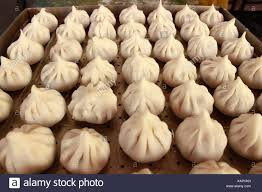modak: (178, 114, 235, 167), (2, 127, 65, 170), (62, 128, 117, 173), (118, 115, 175, 156), (70, 83, 123, 123), (115, 77, 174, 112), (212, 75, 259, 113), (170, 81, 216, 118), (23, 85, 63, 123), (226, 112, 262, 151), (40, 56, 85, 82), (122, 52, 165, 79), (201, 55, 242, 83), (82, 60, 126, 86), (8, 30, 41, 64), (1, 55, 32, 88), (48, 36, 84, 62), (223, 37, 259, 63), (170, 56, 202, 84), (183, 34, 220, 56), (157, 31, 188, 57), (86, 38, 120, 57), (114, 3, 148, 22), (121, 36, 155, 54), (117, 21, 150, 37), (151, 3, 176, 22)
